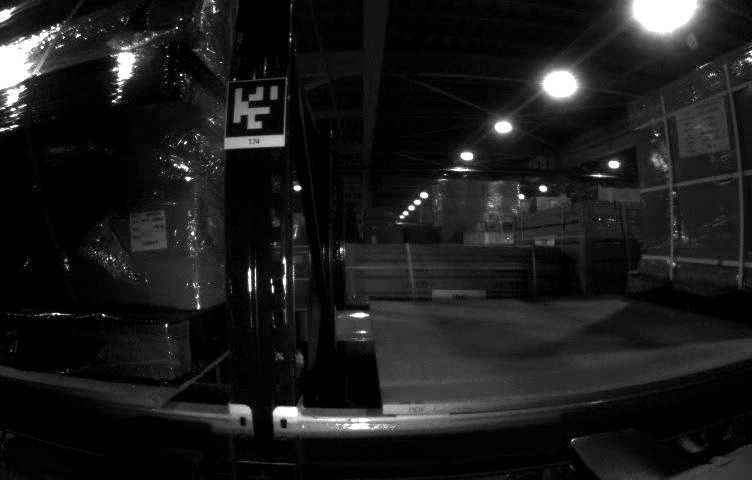True Barcode: (127, 208, 169, 252)
